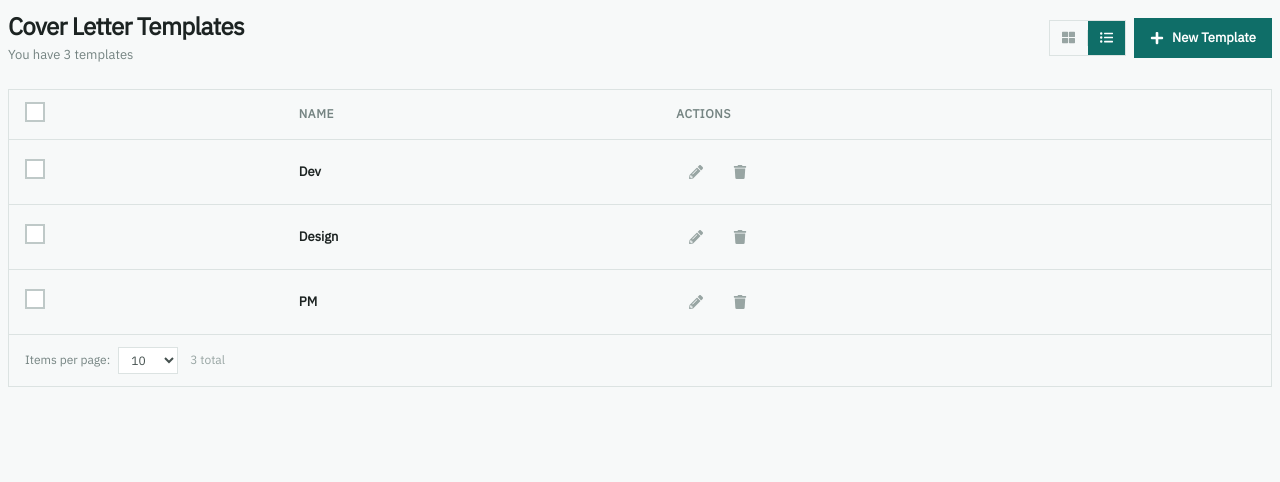
Test: TemplatesView — selection logic › selects all when header checkbox is clicked
Check: the text "Dev" is shown, box [299, 163, 321, 180]
Click the checkbox in the row of "Name".
click(35, 112)  # box [25, 102, 45, 122]
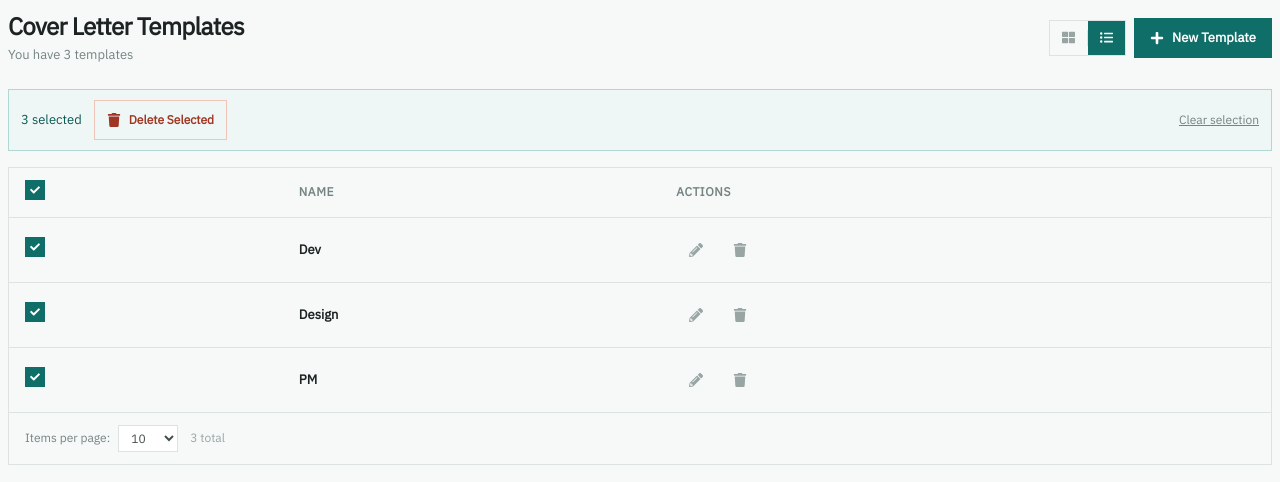
Check: the text "3 selected" is shown, box [21, 110, 82, 129]
